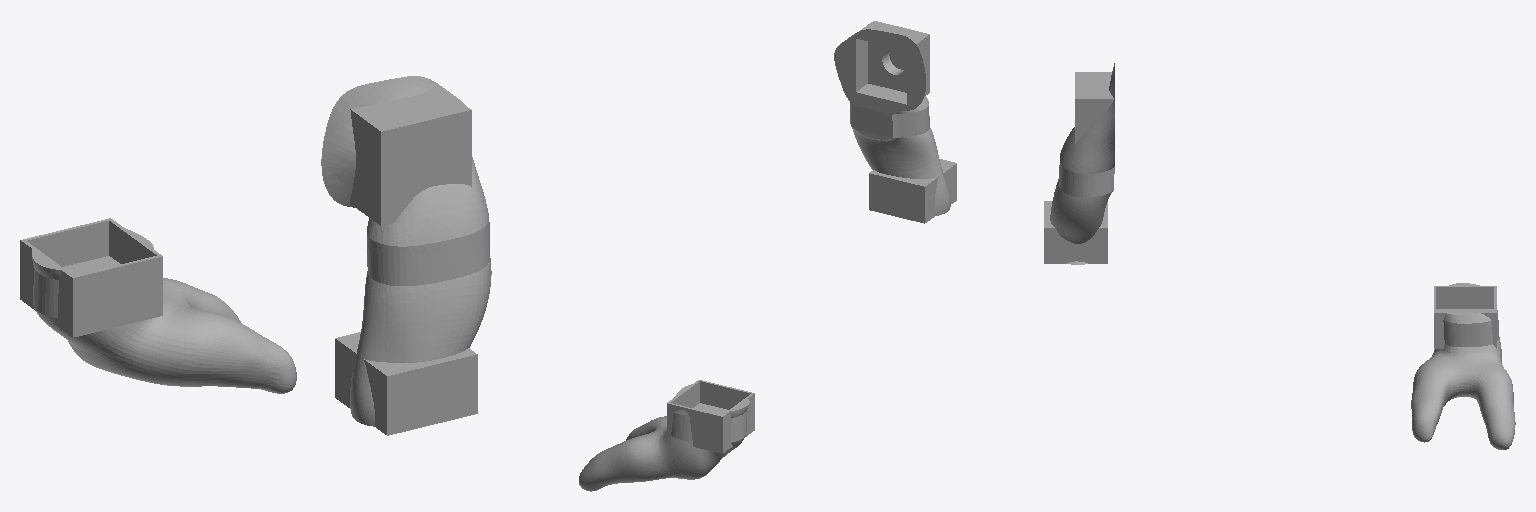
robot.urdf — FrogBot4_top-FrogBot4-z-4_bottom-FrogBot4-z-4:
<?xml version="1.0" ?>
<robot name="FrogBot4_top-FrogBot4-z-4_bottom-FrogBot4-z-4">

<material name="pla_5_percent_infill">
  <color rgba="0.700 0.700 0.700 1.000"/>
</material>

<link name="base_link">
  <inertial>
    <origin xyz="0 0 0" rpy="0 0 0"/>
    <mass value="1.4608203761339813"/>
    <inertia ixx="0.00496034401110324" iyy="0.010259632804669863" izz="0.010457868746855814" ixy="4.519338143051983e-05" iyz="5.808312742508133e-05" ixz="-0.001193761897574285"/>
  </inertial>
  <visual>
    <origin xyz="0 0 0" rpy="0 0 0"/>
    <geometry>
      <mesh filename="simple_meshes/base_link.stl" scale="0.001 0.001 0.001"/>
    </geometry>
    <material name="pla_5_percent_infill"/>
  </visual>
  <collision>
    <origin xyz="0 0 0" rpy="0 0 0"/>
    <geometry>
      <mesh filename="simple_meshes/base_link.stl" scale="0.001 0.001 0.001"/>
    </geometry>
  </collision>
</link>

<link name="body_1_0_1">
  <inertial>
    <origin xyz="-0.039935 -0.102508 -0.020563" rpy="0 0 0"/>
    <mass value="0.07560193466704868"/>
    <inertia ixx="8.522469102563261e-05" iyy="9.945787274329802e-05" izz="3.356686040784313e-05" ixy="9.288313891425096e-07" iyz="2.375094559045046e-06" ixz="-1.3382559174200414e-05"/>
  </inertial>
  <visual>
    <origin xyz="-0.039935 -0.102508 -0.020563" rpy="0 0 0"/>
    <geometry>
      <mesh filename="simple_meshes/body_1_0_1.stl" scale="0.001 0.001 0.001"/>
    </geometry>
    <material name="pla_5_percent_infill"/>
  </visual>
  <collision>
    <origin xyz="-0.039935 -0.102508 -0.020563" rpy="0 0 0"/>
    <geometry>
      <mesh filename="simple_meshes/body_1_0_1.stl" scale="0.001 0.001 0.001"/>
    </geometry>
  </collision>
</link>

<link name="body_1_1_1">
  <inertial>
    <origin xyz="0.084829 -0.102508 0.010182" rpy="0 0 0"/>
    <mass value="0.08483537407957037"/>
    <inertia ixx="6.37580944786529e-05" iyy="0.0001070709594757493" izz="6.500752346884917e-05" ixy="-1.664820352832502e-06" iyz="1.351515150109766e-06" ixz="-2.3374731237190397e-05"/>
  </inertial>
  <visual>
    <origin xyz="0.084829 -0.102508 0.010182" rpy="0 0 0"/>
    <geometry>
      <mesh filename="simple_meshes/body_1_1_1.stl" scale="0.001 0.001 0.001"/>
    </geometry>
    <material name="pla_5_percent_infill"/>
  </visual>
  <collision>
    <origin xyz="0.084829 -0.102508 0.010182" rpy="0 0 0"/>
    <geometry>
      <mesh filename="simple_meshes/body_1_1_1.stl" scale="0.001 0.001 0.001"/>
    </geometry>
  </collision>
</link>

<link name="body_1_2_1">
  <inertial>
    <origin xyz="-0.032973 0.102508 -0.03352" rpy="0 0 0"/>
    <mass value="0.08187642020564995"/>
    <inertia ixx="0.00010682132254493564" iyy="0.0001200140482175107" izz="3.6968963325682965e-05" ixy="-2.455567386472606e-06" iyz="-1.1086374214306781e-05" ixz="-1.139769583188417e-05"/>
  </inertial>
  <visual>
    <origin xyz="-0.032973 0.102508 -0.03352" rpy="0 0 0"/>
    <geometry>
      <mesh filename="simple_meshes/body_1_2_1.stl" scale="0.001 0.001 0.001"/>
    </geometry>
    <material name="pla_5_percent_infill"/>
  </visual>
  <collision>
    <origin xyz="-0.032973 0.102508 -0.03352" rpy="0 0 0"/>
    <geometry>
      <mesh filename="simple_meshes/body_1_2_1.stl" scale="0.001 0.001 0.001"/>
    </geometry>
  </collision>
</link>

<link name="body_1_3_1">
  <inertial>
    <origin xyz="0.075405 0.102508 -0.000907" rpy="0 0 0"/>
    <mass value="0.09057844694000239"/>
    <inertia ixx="7.050537820749159e-05" iyy="0.00011478882008694312" izz="6.799300106250178e-05" ixy="2.6063123892221783e-07" iyz="-1.3798087935148833e-06" ixz="-2.3383116319813458e-05"/>
  </inertial>
  <visual>
    <origin xyz="0.075405 0.102508 -0.000907" rpy="0 0 0"/>
    <geometry>
      <mesh filename="simple_meshes/body_1_3_1.stl" scale="0.001 0.001 0.001"/>
    </geometry>
    <material name="pla_5_percent_infill"/>
  </visual>
  <collision>
    <origin xyz="0.075405 0.102508 -0.000907" rpy="0 0 0"/>
    <geometry>
      <mesh filename="simple_meshes/body_1_3_1.stl" scale="0.001 0.001 0.001"/>
    </geometry>
  </collision>
</link>

<link name="body_2_0_1">
  <inertial>
    <origin xyz="-0.025656 -0.145015 0.105436" rpy="0 0 0"/>
    <mass value="0.07347948119381947"/>
    <inertia ixx="4.818415484778406e-05" iyy="7.756524007078349e-05" izz="8.500733349440202e-05" ixy="-6.182407874147193e-07" iyz="-8.43949437242305e-08" ixz="2.363297231430762e-05"/>
  </inertial>
  <visual>
    <origin xyz="-0.025656 -0.145015 0.105436" rpy="0 0 0"/>
    <geometry>
      <mesh filename="simple_meshes/body_2_0_1.stl" scale="0.001 0.001 0.001"/>
    </geometry>
    <material name="pla_5_percent_infill"/>
  </visual>
  <collision>
    <origin xyz="-0.025656 -0.145015 0.105436" rpy="0 0 0"/>
    <geometry>
      <mesh filename="simple_meshes/body_2_0_1.stl" scale="0.001 0.001 0.001"/>
    </geometry>
  </collision>
</link>

<link name="body_2_1_1">
  <inertial>
    <origin xyz="0.114857 -0.145661 0.105438" rpy="0 0 0"/>
    <mass value="0.06569319637491093"/>
    <inertia ixx="3.7076116372281205e-05" iyy="7.188593852379237e-05" izz="6.224542555107078e-05" ixy="-5.860483300555719e-06" iyz="4.323588229732155e-06" ixz="2.337735425383264e-05"/>
  </inertial>
  <visual>
    <origin xyz="0.114857 -0.145661 0.105438" rpy="0 0 0"/>
    <geometry>
      <mesh filename="simple_meshes/body_2_1_1.stl" scale="0.001 0.001 0.001"/>
    </geometry>
    <material name="pla_5_percent_infill"/>
  </visual>
  <collision>
    <origin xyz="0.114857 -0.145661 0.105438" rpy="0 0 0"/>
    <geometry>
      <mesh filename="simple_meshes/body_2_1_1.stl" scale="0.001 0.001 0.001"/>
    </geometry>
  </collision>
</link>

<link name="body_2_2_1">
  <inertial>
    <origin xyz="-0.022601 0.152053 0.105436" rpy="0 0 0"/>
    <mass value="0.08022638304579707"/>
    <inertia ixx="5.193413939251056e-05" iyy="8.271631320531892e-05" izz="9.219699060659036e-05" ixy="-1.6183201345369323e-06" iyz="2.2646394040506251e-07" ixz="2.5166595469630713e-05"/>
  </inertial>
  <visual>
    <origin xyz="-0.022601 0.152053 0.105436" rpy="0 0 0"/>
    <geometry>
      <mesh filename="simple_meshes/body_2_2_1.stl" scale="0.001 0.001 0.001"/>
    </geometry>
    <material name="pla_5_percent_infill"/>
  </visual>
  <collision>
    <origin xyz="-0.022601 0.152053 0.105436" rpy="0 0 0"/>
    <geometry>
      <mesh filename="simple_meshes/body_2_2_1.stl" scale="0.001 0.001 0.001"/>
    </geometry>
  </collision>
</link>

<link name="body_2_3_1">
  <inertial>
    <origin xyz="0.12145 0.146005 0.105436" rpy="0 0 0"/>
    <mass value="0.06384407842429632"/>
    <inertia ixx="4.3180995125638444e-05" iyy="5.915505342393322e-05" izz="6.293278555646658e-05" ixy="8.657637887329785e-06" iyz="-7.4075305240540144e-06" ixz="1.7355268429624163e-05"/>
  </inertial>
  <visual>
    <origin xyz="0.12145 0.146005 0.105436" rpy="0 0 0"/>
    <geometry>
      <mesh filename="simple_meshes/body_2_3_1.stl" scale="0.001 0.001 0.001"/>
    </geometry>
    <material name="pla_5_percent_infill"/>
  </visual>
  <collision>
    <origin xyz="0.12145 0.146005 0.105436" rpy="0 0 0"/>
    <geometry>
      <mesh filename="simple_meshes/body_2_3_1.stl" scale="0.001 0.001 0.001"/>
    </geometry>
  </collision>
</link>

<joint name="joint_1_0" type="revolute">
  <origin xyz="0.039935 0.102508 0.020563" rpy="0 0 0"/>
  <parent link="base_link"/>
  <child link="body_1_0_1"/>
  <axis xyz="0.0 1.0 0.0"/>
  <limit upper="1.2" lower="-1.2" effort="3.8" velocity="5.4"/>
</joint>
<transmission name="joint_1_0_tran">
  <type>transmission_interface/SimpleTransmission</type>
  <joint name="joint_1_0">
    <hardwareInterface>PositionJointInterface</hardwareInterface>
  </joint>
  <actuator name="joint_1_0_actr">
    <hardwareInterface>PositionJointInterface</hardwareInterface>
    <mechanicalReduction>1</mechanicalReduction>
  </actuator>
</transmission>

<joint name="joint_1_1" type="revolute">
  <origin xyz="-0.084829 0.102508 -0.010182" rpy="0 0 0"/>
  <parent link="base_link"/>
  <child link="body_1_1_1"/>
  <axis xyz="0.0 1.0 0.0"/>
  <limit upper="1.2" lower="-1.2" effort="3.8" velocity="5.4"/>
</joint>
<transmission name="joint_1_1_tran">
  <type>transmission_interface/SimpleTransmission</type>
  <joint name="joint_1_1">
    <hardwareInterface>PositionJointInterface</hardwareInterface>
  </joint>
  <actuator name="joint_1_1_actr">
    <hardwareInterface>PositionJointInterface</hardwareInterface>
    <mechanicalReduction>1</mechanicalReduction>
  </actuator>
</transmission>

<joint name="joint_1_2" type="revolute">
  <origin xyz="0.032973 -0.102508 0.03352" rpy="0 0 0"/>
  <parent link="base_link"/>
  <child link="body_1_2_1"/>
  <axis xyz="0.0 1.0 0.0"/>
  <limit upper="1.2" lower="-1.2" effort="3.8" velocity="5.4"/>
</joint>
<transmission name="joint_1_2_tran">
  <type>transmission_interface/SimpleTransmission</type>
  <joint name="joint_1_2">
    <hardwareInterface>PositionJointInterface</hardwareInterface>
  </joint>
  <actuator name="joint_1_2_actr">
    <hardwareInterface>PositionJointInterface</hardwareInterface>
    <mechanicalReduction>1</mechanicalReduction>
  </actuator>
</transmission>

<joint name="joint_1_3" type="revolute">
  <origin xyz="-0.075405 -0.102508 0.000907" rpy="0 0 0"/>
  <parent link="base_link"/>
  <child link="body_1_3_1"/>
  <axis xyz="0.0 1.0 0.0"/>
  <limit upper="1.2" lower="-1.2" effort="3.8" velocity="5.4"/>
</joint>
<transmission name="joint_1_3_tran">
  <type>transmission_interface/SimpleTransmission</type>
  <joint name="joint_1_3">
    <hardwareInterface>PositionJointInterface</hardwareInterface>
  </joint>
  <actuator name="joint_1_3_actr">
    <hardwareInterface>PositionJointInterface</hardwareInterface>
    <mechanicalReduction>1</mechanicalReduction>
  </actuator>
</transmission>

<joint name="joint_2_0" type="revolute">
  <origin xyz="-0.014279 0.042507 -0.125999" rpy="0 0 0"/>
  <parent link="body_1_0_1"/>
  <child link="body_2_0_1"/>
  <axis xyz="0.0 0.0 1.0"/>
  <limit upper="1.2" lower="-1.2" effort="3.8" velocity="5.4"/>
</joint>
<transmission name="joint_2_0_tran">
  <type>transmission_interface/SimpleTransmission</type>
  <joint name="joint_2_0">
    <hardwareInterface>PositionJointInterface</hardwareInterface>
  </joint>
  <actuator name="joint_2_0_actr">
    <hardwareInterface>PositionJointInterface</hardwareInterface>
    <mechanicalReduction>1</mechanicalReduction>
  </actuator>
</transmission>

<joint name="joint_2_1" type="revolute">
  <origin xyz="-0.030028 0.043153 -0.095256" rpy="0 0 0"/>
  <parent link="body_1_1_1"/>
  <child link="body_2_1_1"/>
  <axis xyz="0.0 0.0 1.0"/>
  <limit upper="1.2" lower="-1.2" effort="3.8" velocity="5.4"/>
</joint>
<transmission name="joint_2_1_tran">
  <type>transmission_interface/SimpleTransmission</type>
  <joint name="joint_2_1">
    <hardwareInterface>PositionJointInterface</hardwareInterface>
  </joint>
  <actuator name="joint_2_1_actr">
    <hardwareInterface>PositionJointInterface</hardwareInterface>
    <mechanicalReduction>1</mechanicalReduction>
  </actuator>
</transmission>

<joint name="joint_2_2" type="revolute">
  <origin xyz="-0.010372 -0.049545 -0.138956" rpy="0 0 0"/>
  <parent link="body_1_2_1"/>
  <child link="body_2_2_1"/>
  <axis xyz="0.0 0.0 1.0"/>
  <limit upper="1.2" lower="-1.2" effort="3.8" velocity="5.4"/>
</joint>
<transmission name="joint_2_2_tran">
  <type>transmission_interface/SimpleTransmission</type>
  <joint name="joint_2_2">
    <hardwareInterface>PositionJointInterface</hardwareInterface>
  </joint>
  <actuator name="joint_2_2_actr">
    <hardwareInterface>PositionJointInterface</hardwareInterface>
    <mechanicalReduction>1</mechanicalReduction>
  </actuator>
</transmission>

<joint name="joint_2_3" type="revolute">
  <origin xyz="-0.046045 -0.043497 -0.106343" rpy="0 0 0"/>
  <parent link="body_1_3_1"/>
  <child link="body_2_3_1"/>
  <axis xyz="0.0 0.0 1.0"/>
  <limit upper="1.2" lower="-1.2" effort="3.8" velocity="5.4"/>
</joint>
<transmission name="joint_2_3_tran">
  <type>transmission_interface/SimpleTransmission</type>
  <joint name="joint_2_3">
    <hardwareInterface>PositionJointInterface</hardwareInterface>
  </joint>
  <actuator name="joint_2_3_actr">
    <hardwareInterface>PositionJointInterface</hardwareInterface>
    <mechanicalReduction>1</mechanicalReduction>
  </actuator>
</transmission>

</robot>

--- Render facts (derived) ---
The picture shows the robot from 3 angles, left to right: view 1: azimuth 30°, elevation 25°; view 2: azimuth 150°, elevation 25°; view 3: azimuth 270°, elevation 25°; orthographic projection.
Robot: FrogBot4_top-FrogBot4-z-4_bottom-FrogBot4-z-4 — 9 links, 8 joints (8 revolute); root link base_link; default pose: all joints at 0.
Links seen in each view (by area): view 1: body_1_2_1, body_2_0_1; view 2: body_1_2_1, body_2_0_1; view 3: body_2_0_1, body_1_2_1.
Link boxes in pixels (x1=…): body_1_2_1: x1=321, y1=76, x2=491, y2=435; body_2_0_1: x1=20, y1=218, x2=296, y2=393; body_1_2_1: x1=834, y1=21, x2=956, y2=223; body_2_0_1: x1=579, y1=380, x2=754, y2=491; body_2_0_1: x1=1411, y1=283, x2=1515, y2=449; body_1_2_1: x1=1044, y1=63, x2=1114, y2=264.
Size in the robot's own frame: 0.1282 by 0.3597 by 0.2791 metres.
2 mesh visuals loaded from 9 distinct referenced files (2 binary STL); not drawn: 7 (reference not matched to a file when rendering).